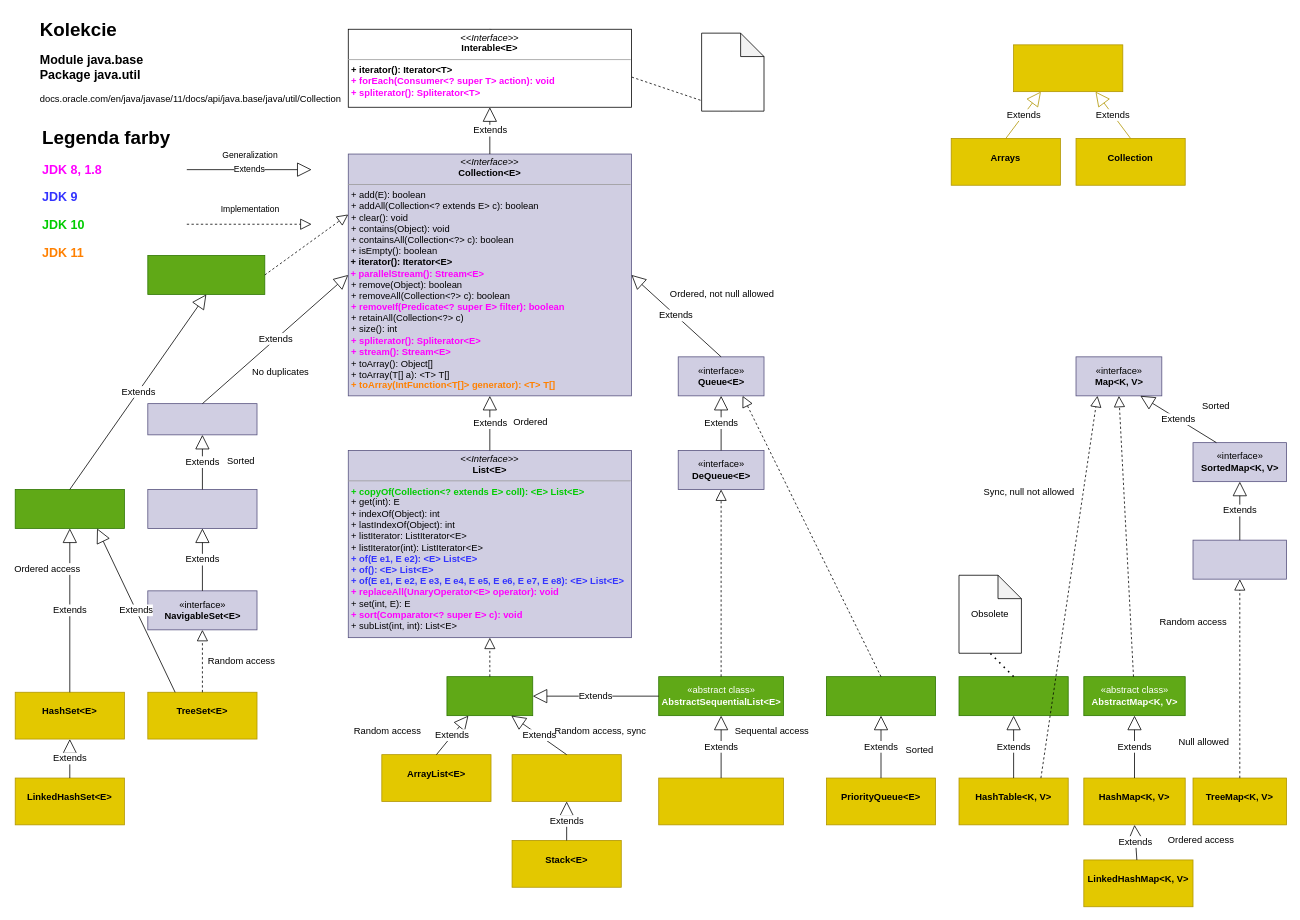
Some shapes in this 1300 by 920 pixel diagram are drawn without their labels. Here are the shapes that lost their labels. From the top down, the centre of each, then its label:
At point (732, 71): "Iterator JDK 1.5 for-each JDK 1.8".
At point (1068, 68): "Object".
At point (206, 274): "«abstract class» AbstractCollection<E>".
At point (202, 419): "«interface» Set<E>".
At point (69, 508): "«abstract class» AbstractSet<E>".
At point (202, 508): "«interface» SortedSet<E>".
At point (1239, 559): "«interface» NavigableMap<K, V>".
At point (489, 696): "«abstract class» AbstractList<E>".
At point (881, 696): "«abstract class» AbstractQueue<E>".
At point (1013, 696): "«abstract class» Dictionary<K, V>".
At point (566, 777): "Vector<E>".
At point (721, 801): "LinkedList<E>".
